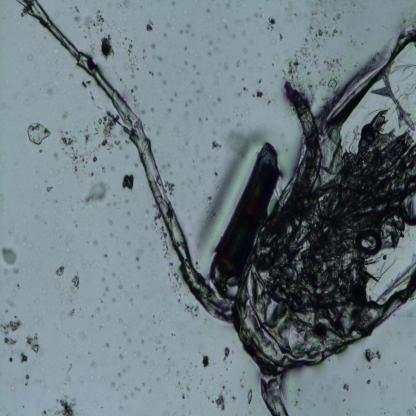Background material: (290, 15, 350, 74), (60, 114, 121, 172), (72, 3, 104, 51), (0, 313, 26, 367), (322, 0, 356, 25), (120, 34, 138, 80), (39, 394, 78, 414), (26, 118, 51, 146), (168, 260, 185, 301), (81, 183, 108, 208), (173, 122, 191, 147), (124, 83, 140, 111), (305, 0, 324, 23), (99, 33, 114, 61), (230, 103, 252, 122), (192, 144, 207, 171), (0, 246, 19, 267), (24, 334, 41, 356), (364, 346, 383, 365), (182, 303, 201, 321), (221, 384, 238, 404), (398, 4, 414, 25), (151, 333, 167, 354), (176, 22, 197, 38), (62, 362, 75, 386), (54, 103, 72, 120), (177, 382, 193, 401), (106, 2, 130, 14), (131, 350, 149, 366), (42, 83, 61, 98), (285, 0, 299, 20), (235, 14, 254, 28), (181, 171, 195, 190), (121, 172, 135, 191), (201, 189, 213, 210), (328, 74, 341, 93), (224, 22, 237, 40), (164, 178, 176, 196), (234, 84, 248, 98), (350, 34, 364, 48), (192, 114, 204, 130), (80, 78, 92, 94), (161, 162, 175, 175), (221, 344, 230, 364), (211, 68, 221, 86), (215, 394, 226, 410), (209, 38, 221, 52), (53, 263, 65, 277), (196, 86, 207, 101), (266, 17, 277, 32), (204, 388, 214, 404), (219, 117, 231, 130), (70, 273, 80, 288), (252, 88, 264, 100), (211, 142, 224, 153), (21, 372, 31, 386), (190, 62, 200, 76), (65, 308, 77, 319), (98, 318, 106, 334), (202, 354, 210, 370), (147, 38, 157, 50), (144, 207, 152, 222), (146, 20, 156, 32), (254, 8, 263, 21), (222, 57, 230, 71), (104, 216, 115, 226), (342, 382, 351, 394), (152, 54, 164, 63), (50, 150, 60, 160), (131, 384, 142, 393), (87, 370, 95, 382), (102, 246, 108, 261), (146, 68, 156, 77), (295, 386, 303, 397), (12, 279, 20, 290), (78, 332, 89, 340), (142, 48, 148, 62), (217, 96, 225, 106), (124, 238, 132, 248), (44, 184, 54, 192), (26, 54, 35, 62), (122, 365, 131, 373), (152, 313, 158, 325), (270, 36, 278, 45), (292, 400, 300, 409), (93, 237, 100, 247), (109, 381, 117, 389), (235, 60, 243, 68), (184, 100, 193, 107), (182, 60, 191, 67), (198, 377, 204, 387), (278, 30, 284, 40), (352, 61, 360, 68), (170, 331, 177, 339), (115, 352, 123, 359), (62, 246, 70, 253), (12, 268, 20, 275), (225, 1, 230, 12), (168, 97, 174, 106), (256, 77, 262, 86), (204, 5, 210, 14), (248, 67, 255, 74), (143, 223, 150, 230), (10, 384, 16, 392), (258, 66, 264, 74), (155, 375, 161, 383), (117, 404, 123, 412), (25, 366, 33, 372), (366, 378, 372, 386), (90, 360, 96, 368), (161, 78, 167, 86), (190, 77, 196, 85), (104, 284, 110, 292), (110, 296, 116, 304), (130, 297, 135, 306), (149, 106, 155, 113), (133, 255, 139, 262), (140, 109, 146, 116), (162, 32, 168, 39), (256, 50, 262, 57), (118, 282, 123, 290), (109, 231, 114, 239), (136, 265, 141, 273), (128, 337, 134, 343), (182, 47, 188, 53), (147, 387, 152, 394), (122, 330, 127, 337), (125, 224, 130, 231), (274, 54, 279, 61), (270, 59, 274, 67), (106, 316, 111, 322), (141, 382, 146, 388), (133, 162, 138, 168), (103, 306, 108, 312), (111, 272, 116, 278), (171, 0, 176, 6), (95, 308, 102, 312), (157, 71, 162, 76), (125, 396, 130, 401), (116, 373, 121, 378), (207, 51, 212, 56), (166, 24, 171, 29), (130, 391, 134, 397), (102, 277, 106, 283), (141, 338, 145, 344), (250, 40, 254, 46), (106, 343, 110, 348), (136, 284, 140, 289), (125, 155, 129, 160), (167, 107, 171, 112), (113, 200, 116, 206), (103, 292, 106, 298), (127, 211, 130, 216)
Cellulose filter fibre: (282, 75, 326, 231)
Diatom: (247, 388, 254, 405)
Fragment: (211, 141, 283, 281)
